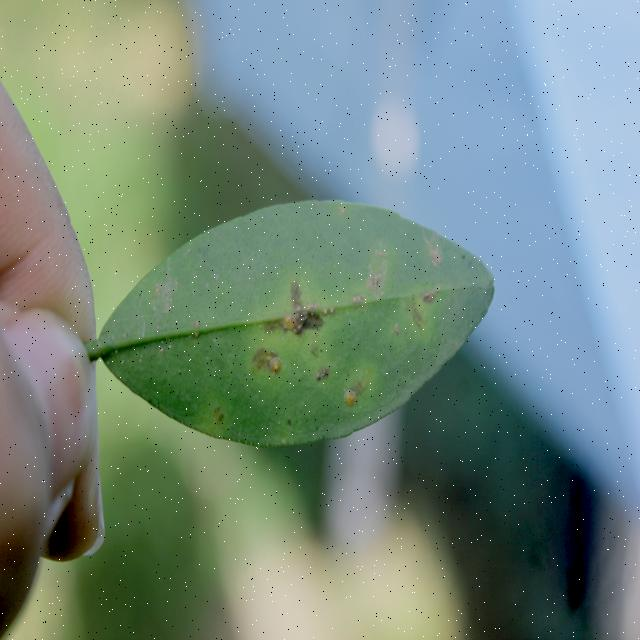canker: (202, 248, 420, 411)
